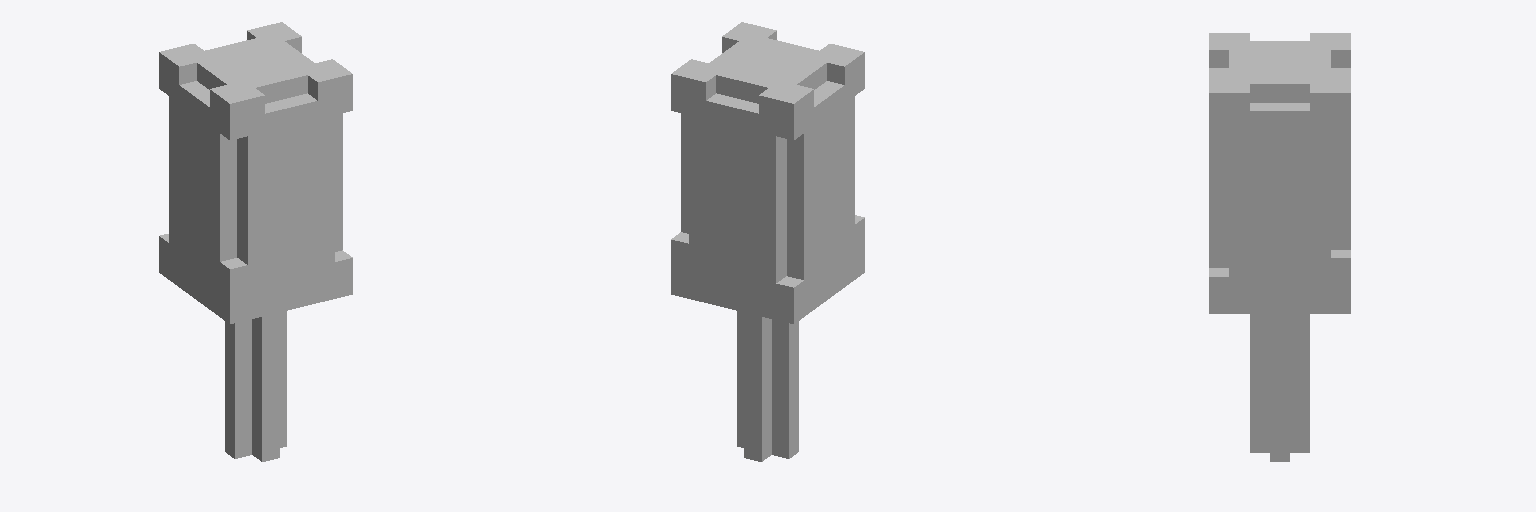
The model's file is tree.obj.
3 renders of one model, left to right at view 1: azimuth 30°, elevation 25°; view 2: azimuth 150°, elevation 25°; view 3: azimuth 270°, elevation 25°, orthographic.
Parts seen in each view (by area): view 1: object 1; view 2: object 1; view 3: object 1.
Part boxes in pixels (left/top/right/bottom): object 1: left=159, top=22, right=352, bottom=461; object 1: left=671, top=22, right=864, bottom=461; object 1: left=1209, top=33, right=1350, bottom=461.
Size of the model in its own units: 0.7 by 2.1 by 0.7.